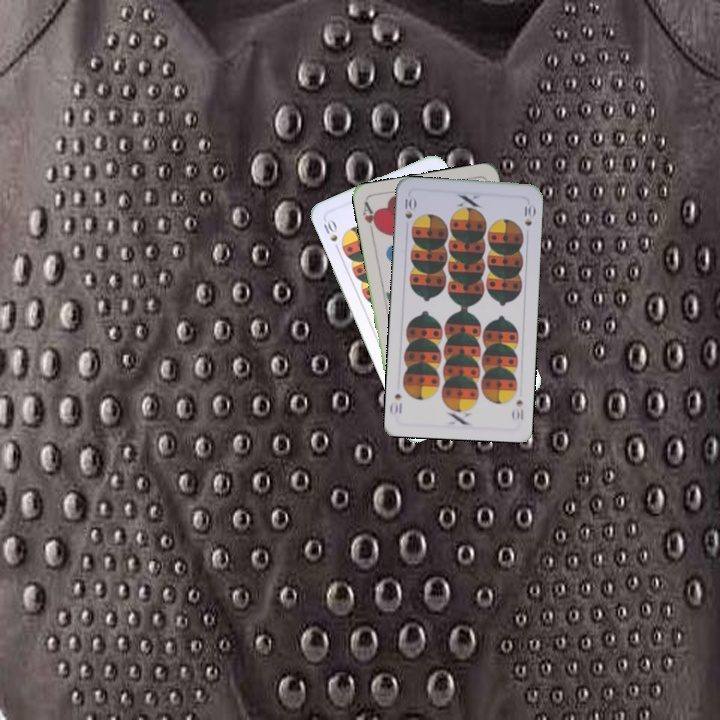HA: (359, 198, 381, 238)
S10: (319, 215, 340, 244), (508, 396, 526, 423), (401, 193, 418, 221)
